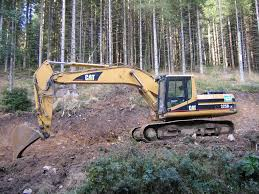excavator: (9, 58, 238, 154)
